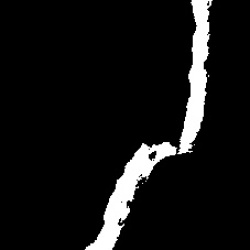crack: (88, 2, 213, 248)
